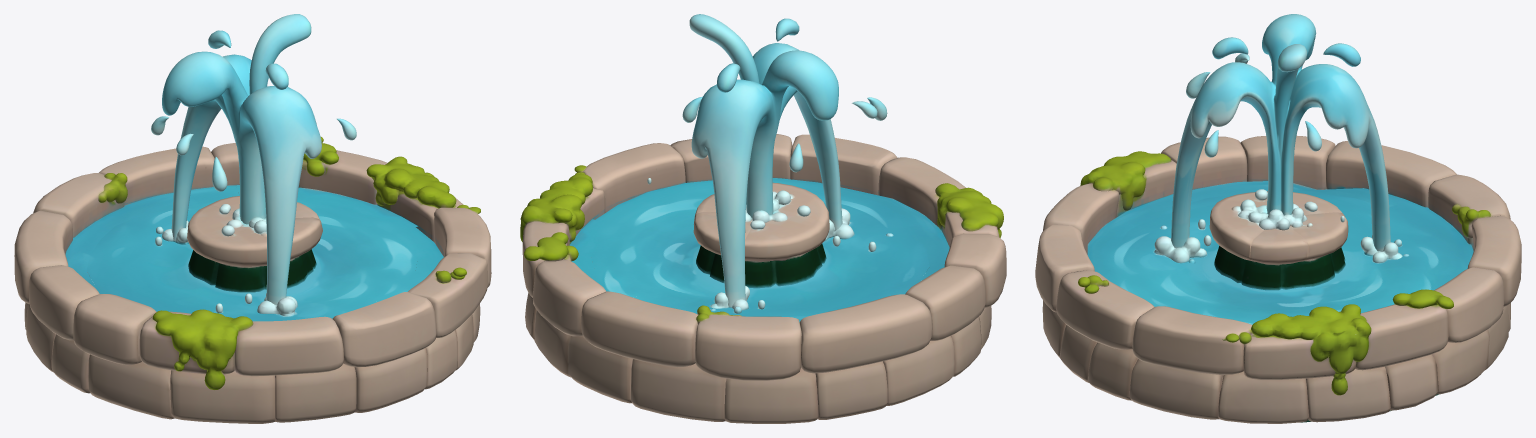
Rendered from C06_fountain.fbx.
3 renders of one model, left to right at view 1: azimuth 30°, elevation 25°; view 2: azimuth 150°, elevation 25°; view 3: azimuth 270°, elevation 25°, orthographic. The views are drawn at different scales.
Visible parts, largest first — view 1: tripo_node_9e4f92c1; view 2: tripo_node_9e4f92c1; view 3: tripo_node_9e4f92c1.
Boxes of the visible parts, box(x1,y1,x2,y2) form: tripo_node_9e4f92c1: box(14, 14, 491, 423); tripo_node_9e4f92c1: box(520, 14, 1006, 423); tripo_node_9e4f92c1: box(1035, 14, 1521, 423).
Bounding box in the file's own units: 0.9995 × 0.7026 × 0.9966.
